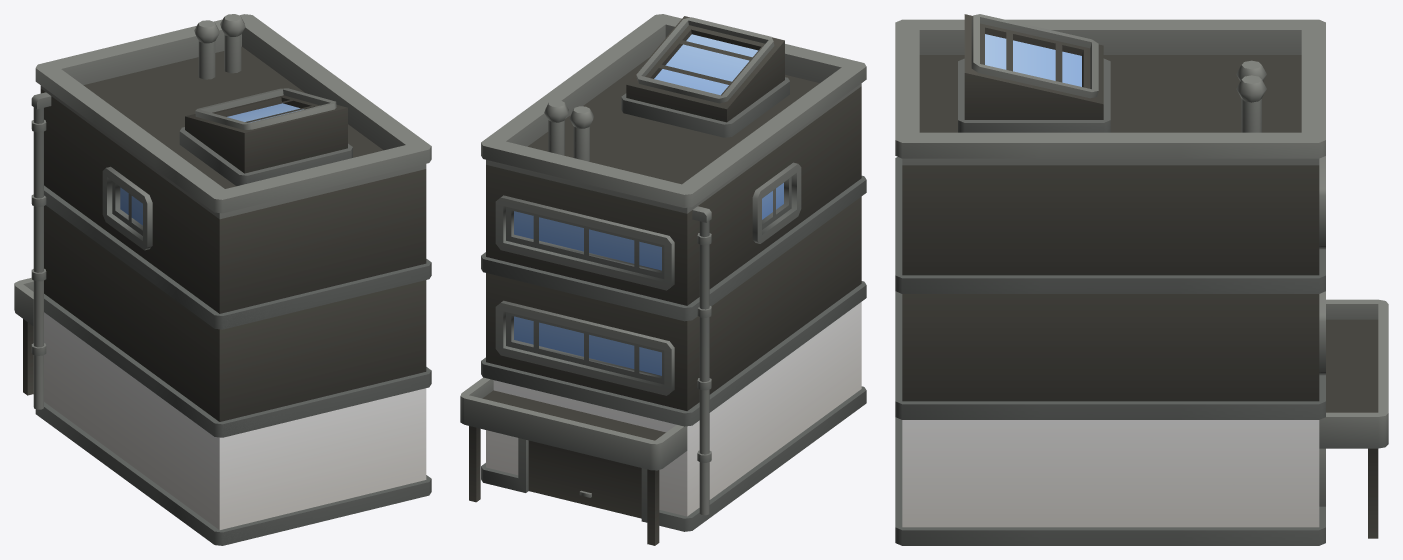
Rendered from ind-building-d.glb.
The picture shows the model from 3 angles, left to right: view 1: azimuth 30°, elevation 25°; view 2: azimuth 150°, elevation 25°; view 3: azimuth 270°, elevation 25°; orthographic projection. The views are drawn at different scales.
Visible parts, largest first — view 1: building-d; view 2: building-d; view 3: building-d.
Boxes of the visible parts, bbox=[...] form: building-d: bbox=[14, 14, 431, 545]; building-d: bbox=[460, 14, 866, 545]; building-d: bbox=[895, 14, 1388, 545].
Size of the model in its own units: 0.8836 by 1.41 by 1.42.
1 material, 1 textured.
